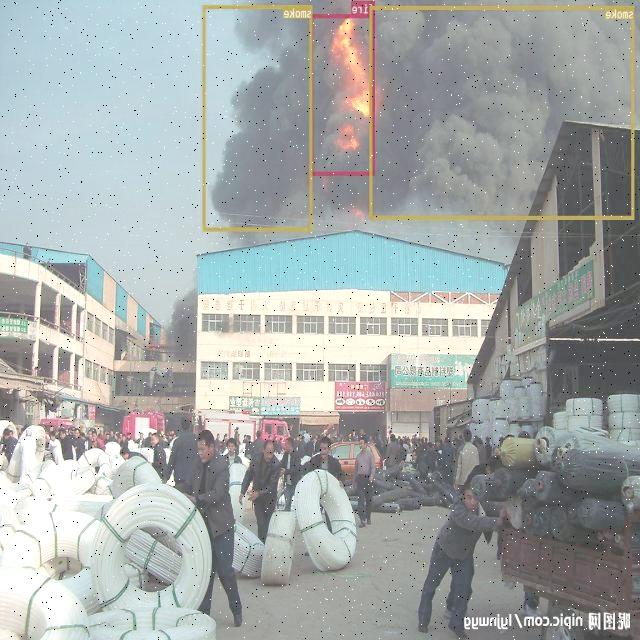fire: (310, 14, 376, 175)
smoke: (370, 6, 635, 219), (204, 4, 312, 230)
